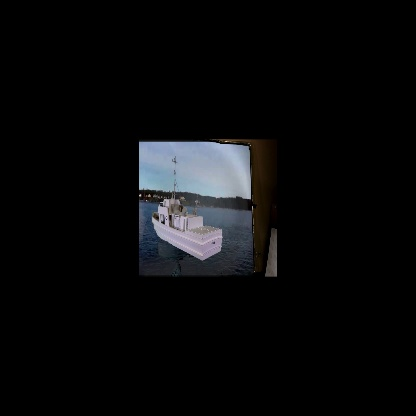YP689: (152, 155, 222, 261)
